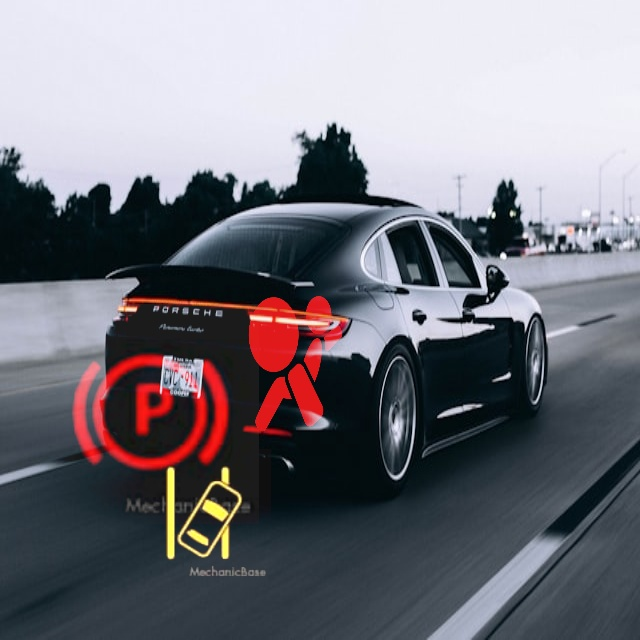symbol: (39, 304, 259, 524), (199, 269, 380, 450), (137, 449, 271, 583)
